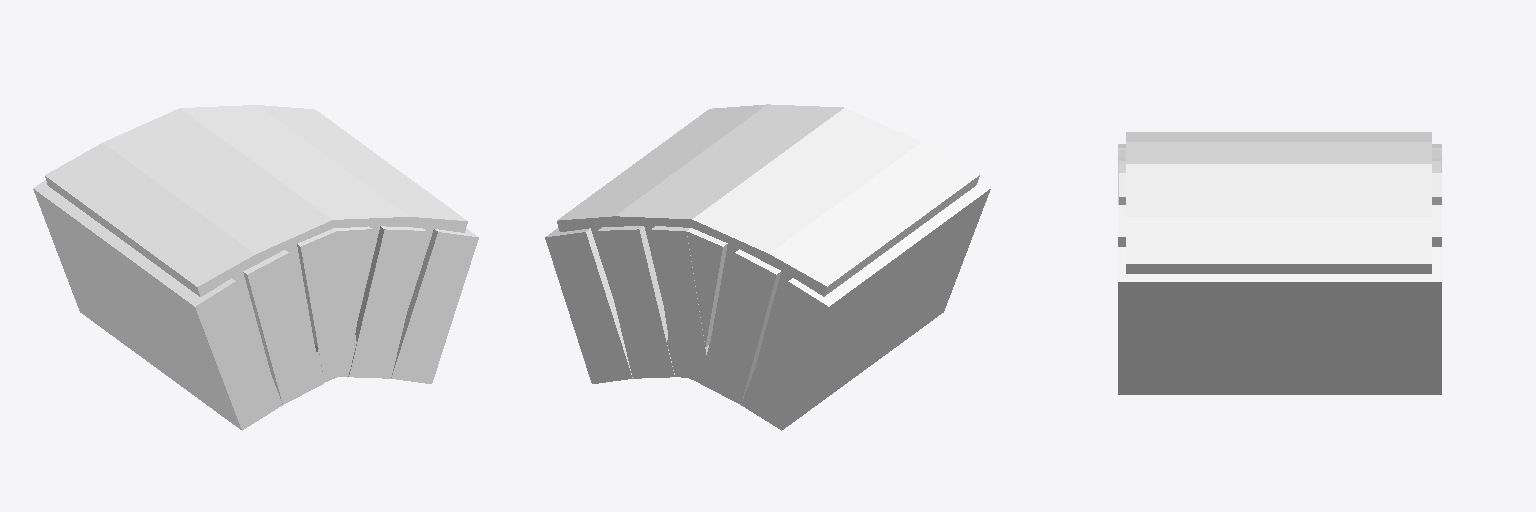
File: lime_mortar_orange_clay_brick_gothic_arch_3_middle.obj
The picture shows the model from 3 angles: view 1: azimuth 30°, elevation 25°; view 2: azimuth 150°, elevation 25°; view 3: azimuth 270°, elevation 25°; orthographic projection.
Parts seen in each view (by area): view 1: cube.005, cube.004, cube.008, cube.003, cube, cube.000, cube.006, cube.002, cube.007, cube.001; view 2: cube.005, cube.004, cube.008, cube.003, cube, cube.000, cube.006, cube.002, cube.001, cube.007; view 3: cube, cube.002, cube.003, cube.004, cube.008, cube.000, cube.001.
Part boxes in pixels (left/top/right/bottom): cube.005: left=33, top=180, right=282, bottom=430; cube.004: left=103, top=108, right=332, bottom=340; cube.008: left=45, top=143, right=269, bottom=369; cube.003: left=180, top=105, right=409, bottom=316; cube: left=391, top=228, right=478, bottom=383; cube.000: left=348, top=226, right=426, bottom=378; cube.006: left=243, top=250, right=324, bottom=404; cube.002: left=258, top=105, right=467, bottom=307; cube.007: left=297, top=228, right=356, bottom=381; cube.001: left=315, top=226, right=371, bottom=376; cube.005: left=741, top=180, right=990, bottom=430; cube.004: left=690, top=108, right=920, bottom=336; cube.008: left=756, top=142, right=979, bottom=363; cube.003: left=615, top=104, right=843, bottom=300; cube: left=545, top=228, right=632, bottom=383; cube.000: left=597, top=226, right=674, bottom=378; cube.006: left=699, top=249, right=781, bottom=404; cube.002: left=557, top=104, right=766, bottom=298; cube.001: left=651, top=226, right=708, bottom=378; cube.007: left=667, top=228, right=727, bottom=382; cube: left=1118, top=247, right=1441, bottom=394; cube.002: left=1126, top=217, right=1431, bottom=273; cube.003: left=1126, top=164, right=1431, bottom=216; cube.004: left=1126, top=142, right=1431, bottom=163; cube.008: left=1126, top=132, right=1431, bottom=141; cube.000: left=1118, top=205, right=1441, bottom=246; cube.001: left=1119, top=173, right=1441, bottom=204.
Size of the model in its own units: 1.08 by 0.6721 by 1.07.